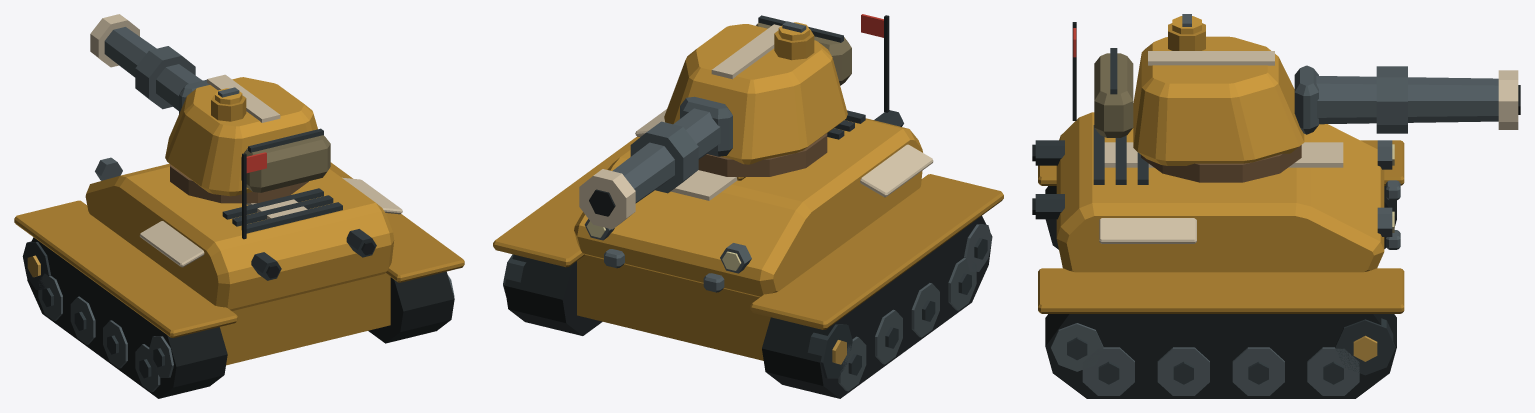
3 views of the same model, side by side, from view 1: azimuth 30°, elevation 25°; view 2: azimuth 150°, elevation 25°; view 3: azimuth 270°, elevation 25° (orthographic). The views are drawn at different scales.
Parts seen in each view (by area): view 1: hull_06, turret_06; view 2: hull_06, turret_06; view 3: hull_06, turret_06.
Boxes of the visible parts, x1=… form: hull_06: x1=14, y1=152, x2=464, y2=398; turret_06: x1=90, y1=14, x2=330, y2=203; hull_06: x1=493, y1=14, x2=1003, y2=398; turret_06: x1=579, y1=15, x2=851, y2=229; hull_06: x1=1032, y1=22, x2=1404, y2=398; turret_06: x1=1094, y1=14, x2=1520, y2=182.
Size of the model in its own units: 0.805 by 0.649 by 1.
